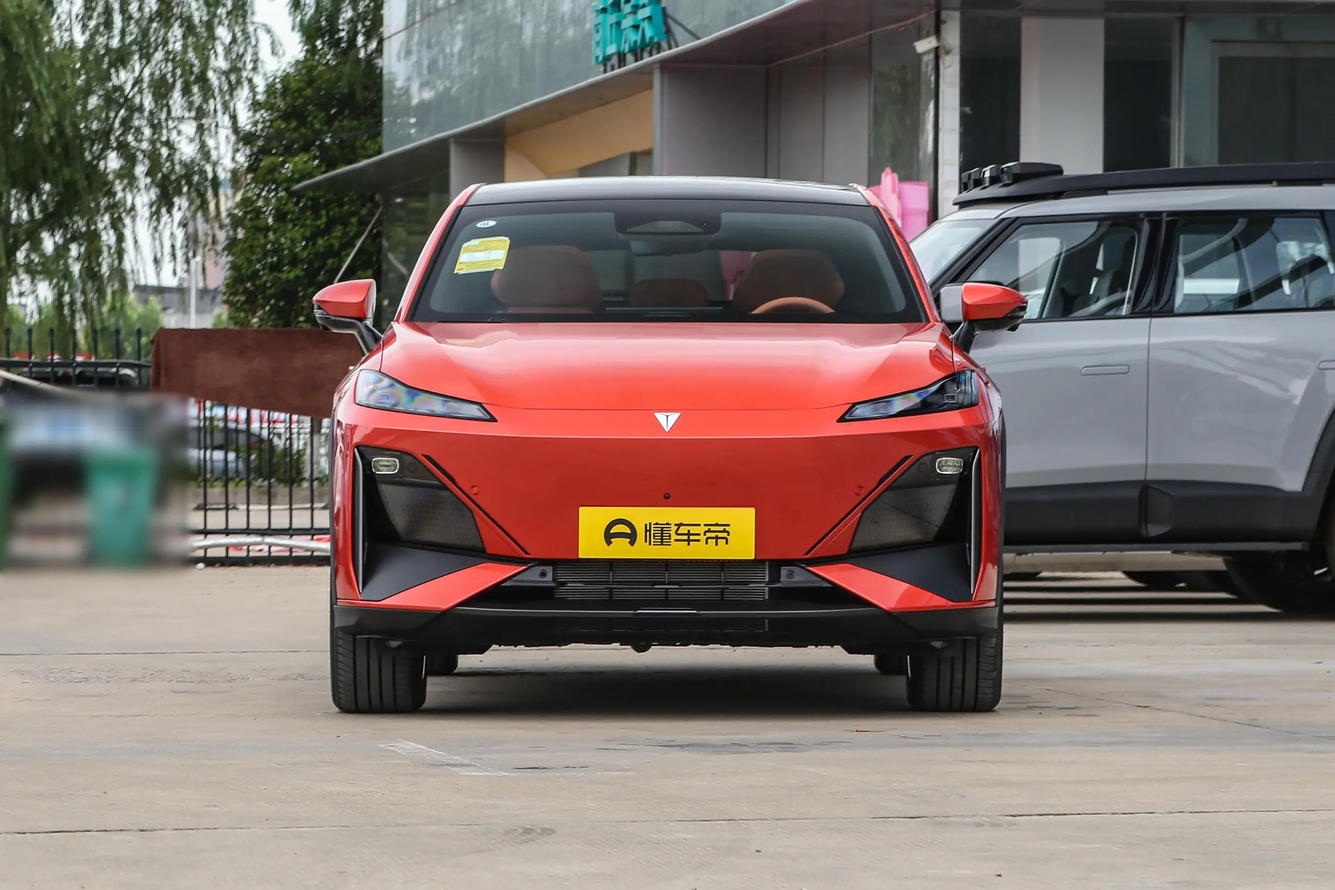Deepal: (654, 413, 680, 431)
